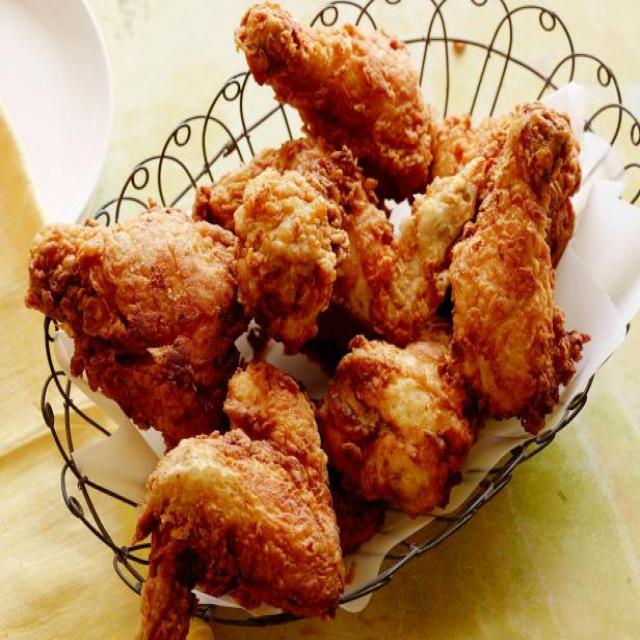Frango: (23, 0, 593, 640)
